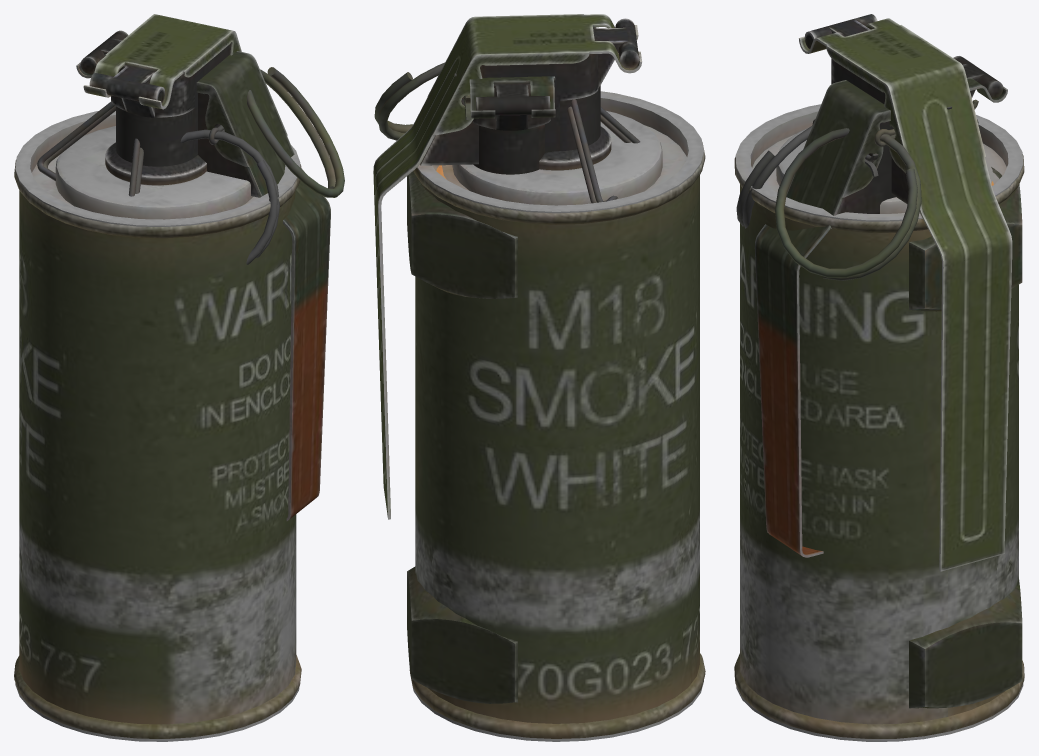
The model's file is nades.glb.
The picture shows the model from 3 angles, left to right: view 1: azimuth 30°, elevation 25°; view 2: azimuth 150°, elevation 25°; view 3: azimuth 270°, elevation 25°; orthographic projection. The views are drawn at different scales.
Parts seen in each view (by area): view 1: smoke, flash; view 2: smoke, flash; view 3: smoke, flash.
Part boxes in pixels (box(x1,y1,x2,y2)): smoke: box(14, 14, 344, 741); flash: box(37, 30, 330, 520); smoke: box(373, 14, 705, 741); flash: box(407, 73, 640, 703); smoke: box(734, 14, 1024, 741); flash: box(736, 56, 1022, 708).
Size of the model in its own units: 0.0667 by 0.135 by 0.0559.
Materials: 2 (2 with a texture image).
